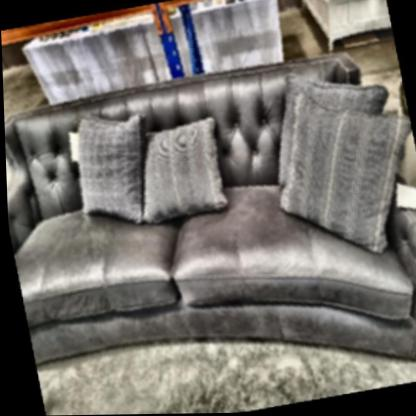Sofa: (8, 54, 416, 389)
